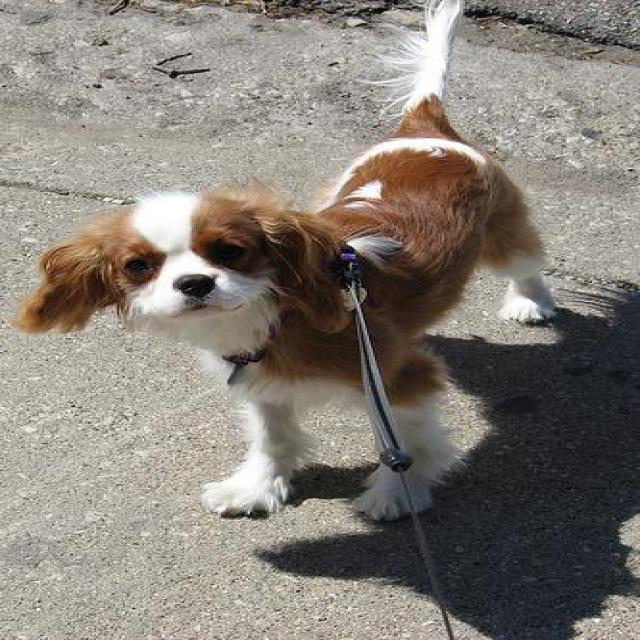blenheim_spaniel: (19, 0, 559, 522)
